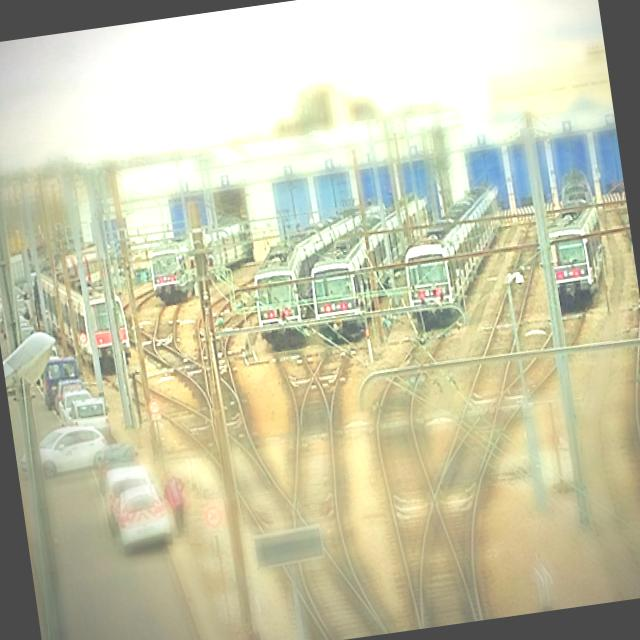Vehicle: (15, 417, 115, 486), (111, 482, 174, 550), (101, 464, 159, 536), (92, 442, 146, 498), (60, 394, 114, 444), (40, 354, 84, 412), (66, 396, 113, 436), (51, 373, 89, 413)
